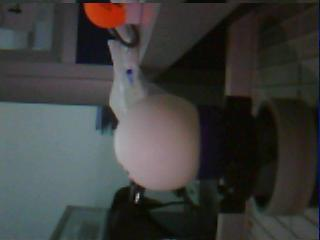oball: (84, 3, 126, 29)
